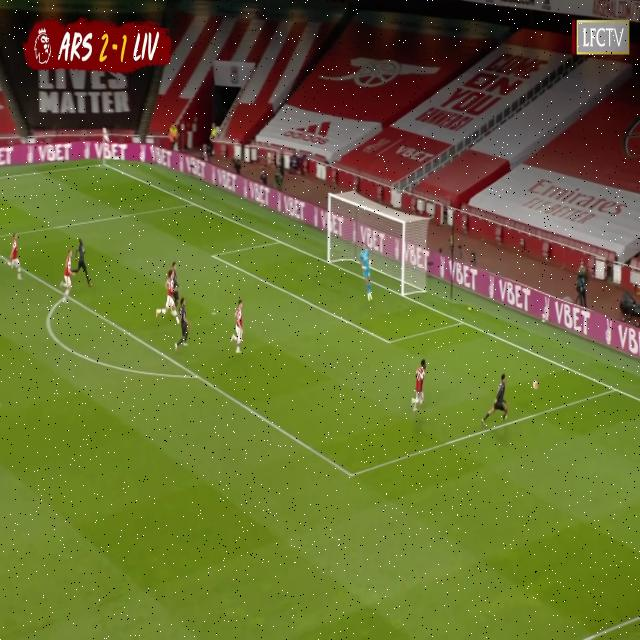Ball: (532, 381, 539, 392)
GoalKeeper: (359, 241, 375, 302)
TEAM 1: (157, 269, 175, 322), (58, 248, 72, 309), (230, 298, 245, 352), (8, 233, 22, 280), (412, 361, 425, 408)
TEAM 2: (481, 374, 511, 427), (175, 296, 192, 354), (73, 240, 91, 288), (173, 256, 180, 305)
